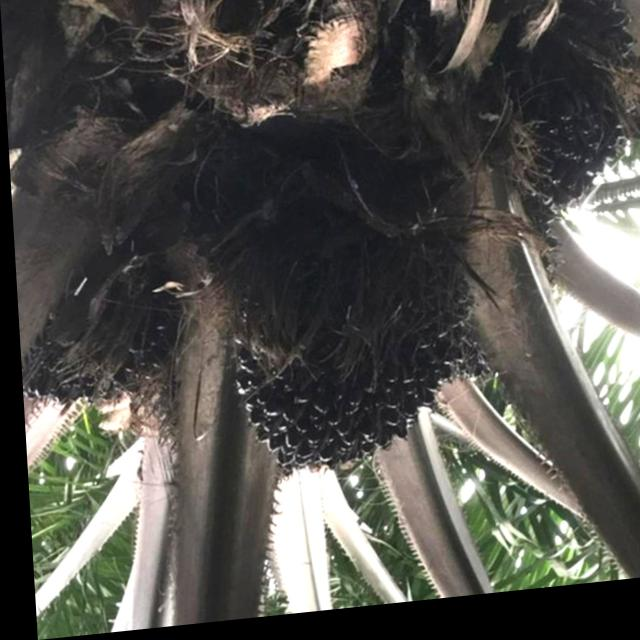ripe: (215, 209, 472, 494), (475, 46, 620, 245), (25, 280, 181, 418)
